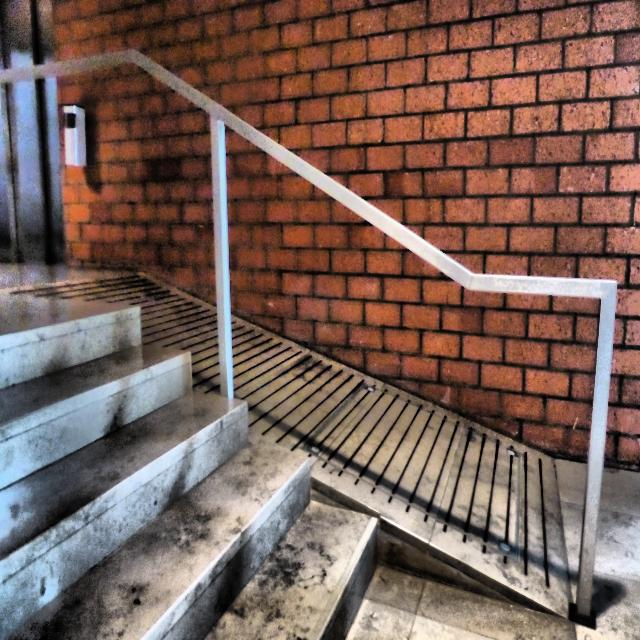escada: (1, 307, 377, 640)
